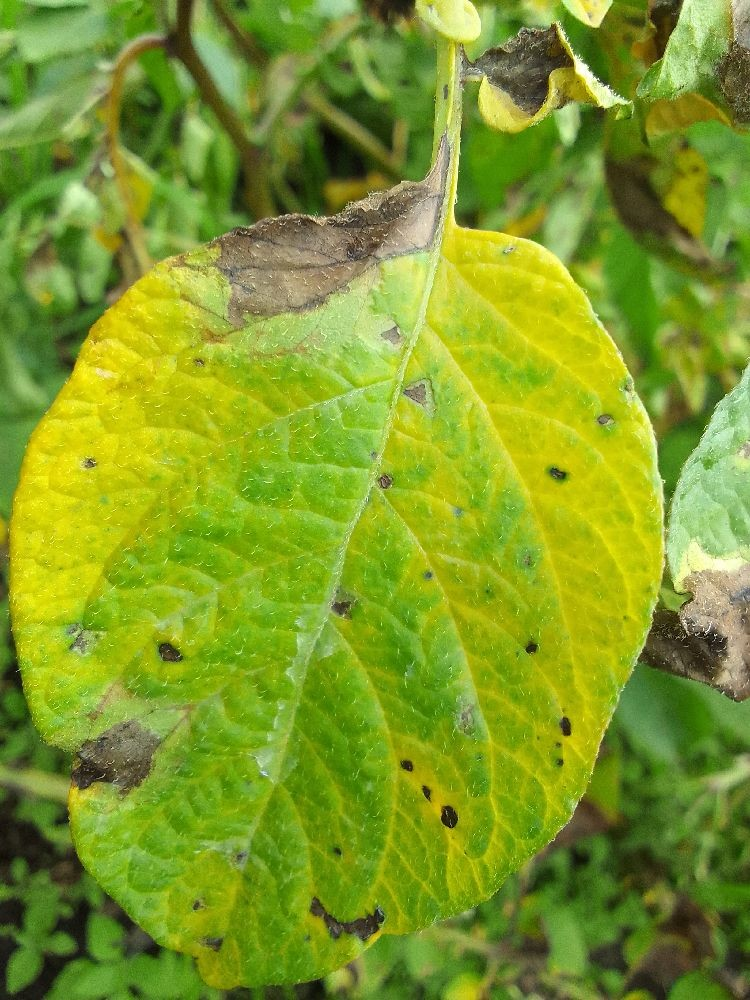late_blight: (0, 0, 447, 610), (561, 0, 750, 321), (566, 819, 750, 1000), (622, 548, 750, 718)
